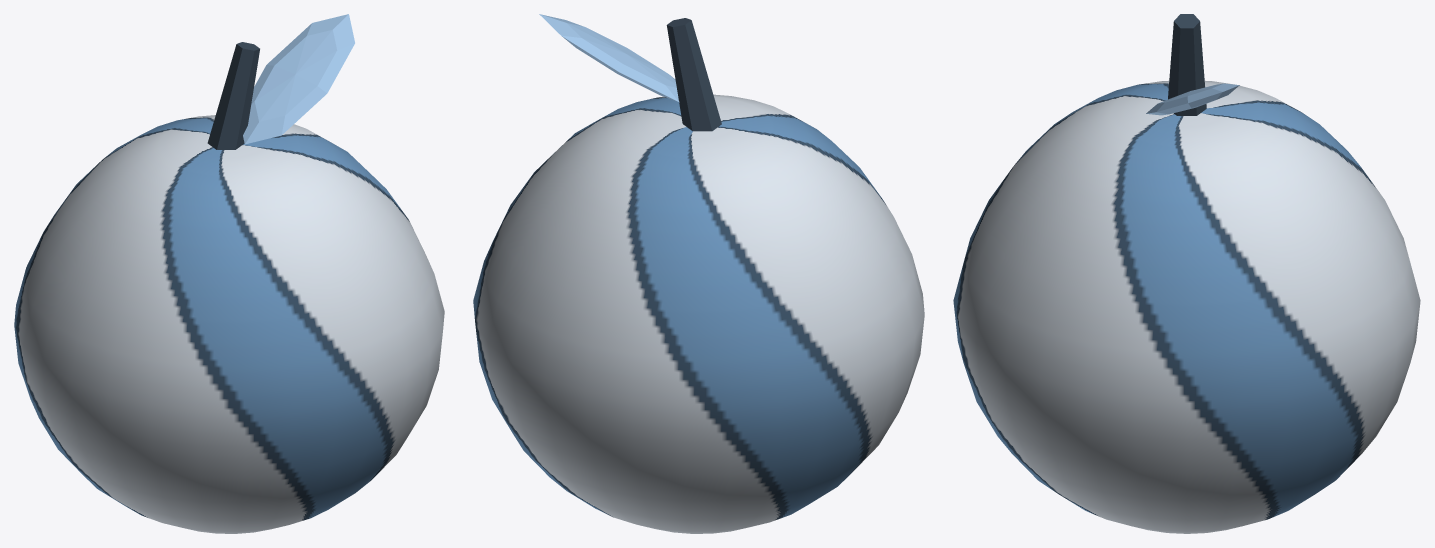
The model's file is Fruit_Wolf.fbx.
The picture shows the model from 3 angles, left to right: view 1: azimuth 30°, elevation 25°; view 2: azimuth 150°, elevation 25°; view 3: azimuth 270°, elevation 25°; orthographic projection. The views are drawn at different scales.
Parts seen in each view (by area): view 1: Fruit_Wolf; view 2: Fruit_Wolf; view 3: Fruit_Wolf.
Boxes of the visible parts, bbox=[...] form: Fruit_Wolf: bbox=[14, 14, 444, 533]; Fruit_Wolf: bbox=[473, 14, 924, 533]; Fruit_Wolf: bbox=[953, 14, 1420, 533].
Bounding box in the file's own units: 1.6 × 1.9 × 1.6.
1 material, 1 textured.
